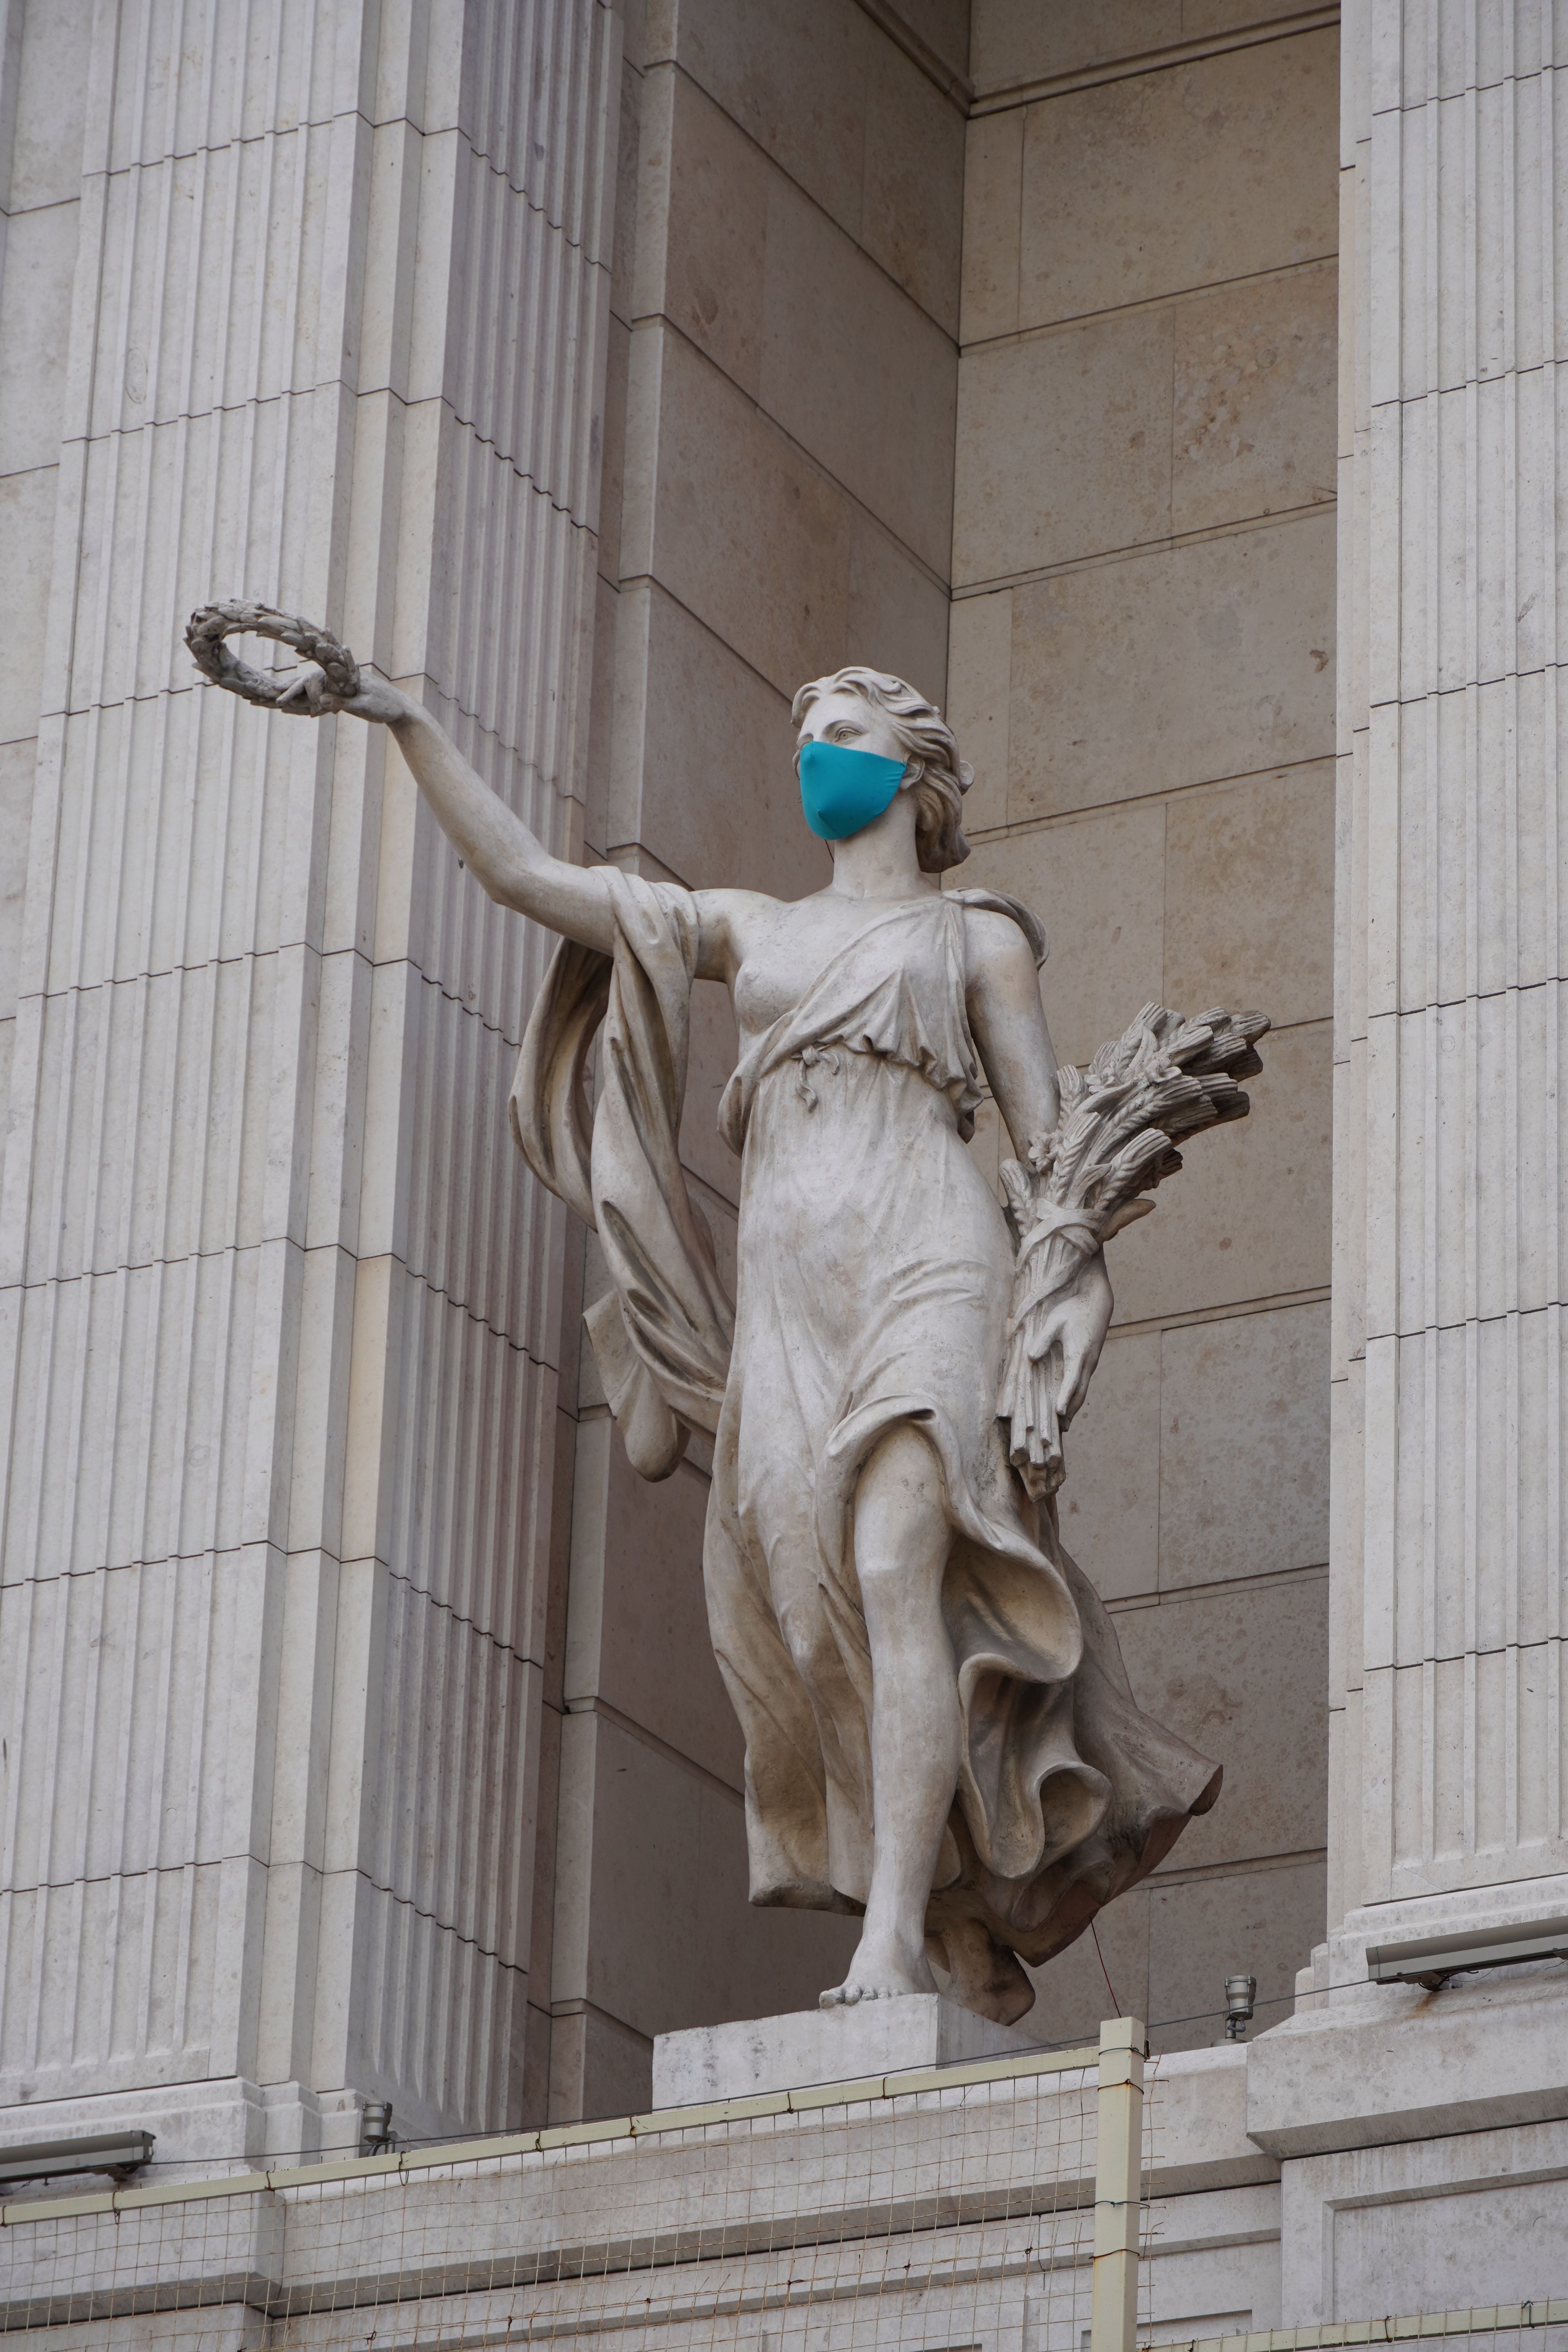mask: (775, 733, 931, 849)
